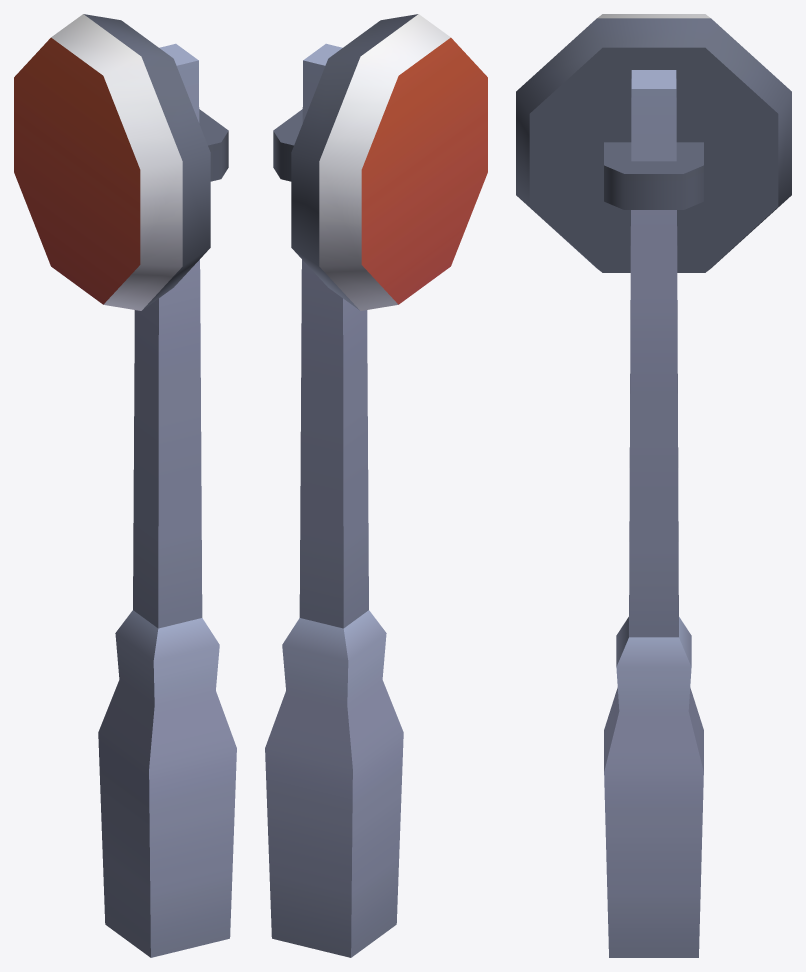
The model's file is k-city-kit-roads-road-sign-stop.glb.
The picture shows the model from 3 angles, left to right: view 1: azimuth 30°, elevation 25°; view 2: azimuth 150°, elevation 25°; view 3: azimuth 270°, elevation 25°; orthographic projection.
Visible parts, largest first — view 1: road-sign-stop; view 2: road-sign-stop; view 3: road-sign-stop.
Part boxes in pixels (x1=…): road-sign-stop: x1=14, y1=14, x2=236, y2=957; road-sign-stop: x1=265, y1=14, x2=487, y2=957; road-sign-stop: x1=516, y1=14, x2=791, y2=957.
Size of the model in its own units: 0.0775 by 0.4941 by 0.1382.
Materials: 1 (1 with a texture image).
